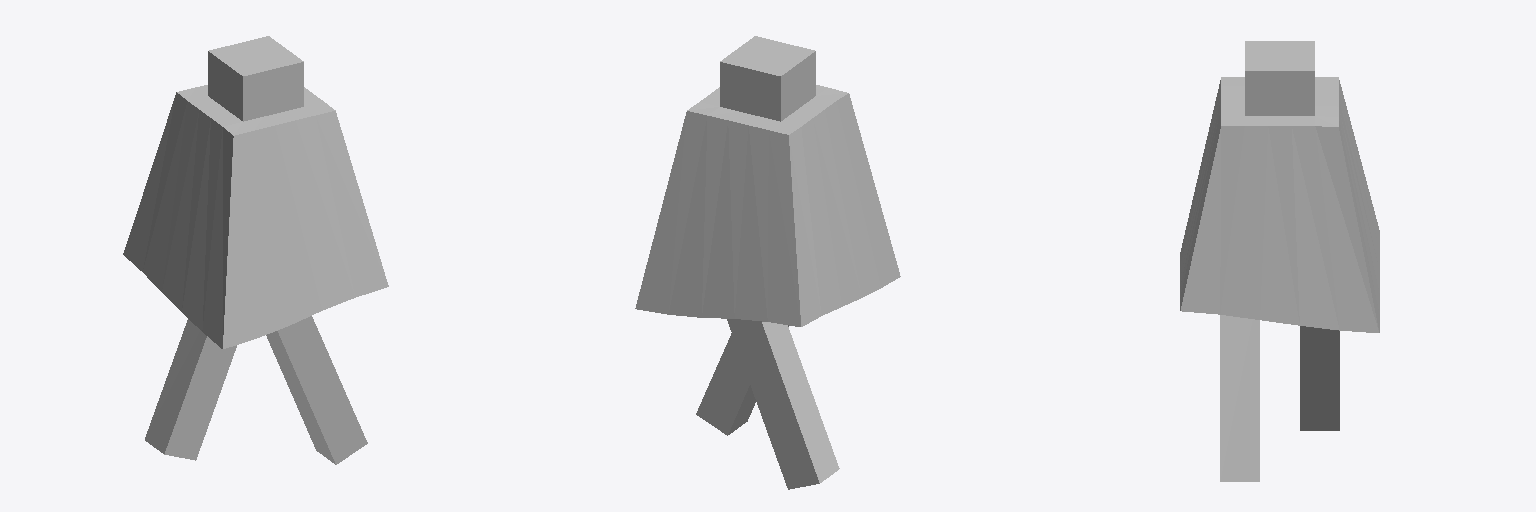
Rendered from essai_000015.obj.
The picture shows the model from 3 angles: view 1: azimuth 30°, elevation 25°; view 2: azimuth 150°, elevation 25°; view 3: azimuth 270°, elevation 25°; orthographic projection.
Visible parts, largest first — view 1: Cube; view 2: Cube; view 3: Cube.
Boxes of the visible parts, x1,y1,x2,y2 form: Cube: [123, 36, 388, 464]; Cube: [635, 36, 900, 489]; Cube: [1180, 41, 1379, 481].
Size of the model in its own units: 1.95 by 4.43 by 2.